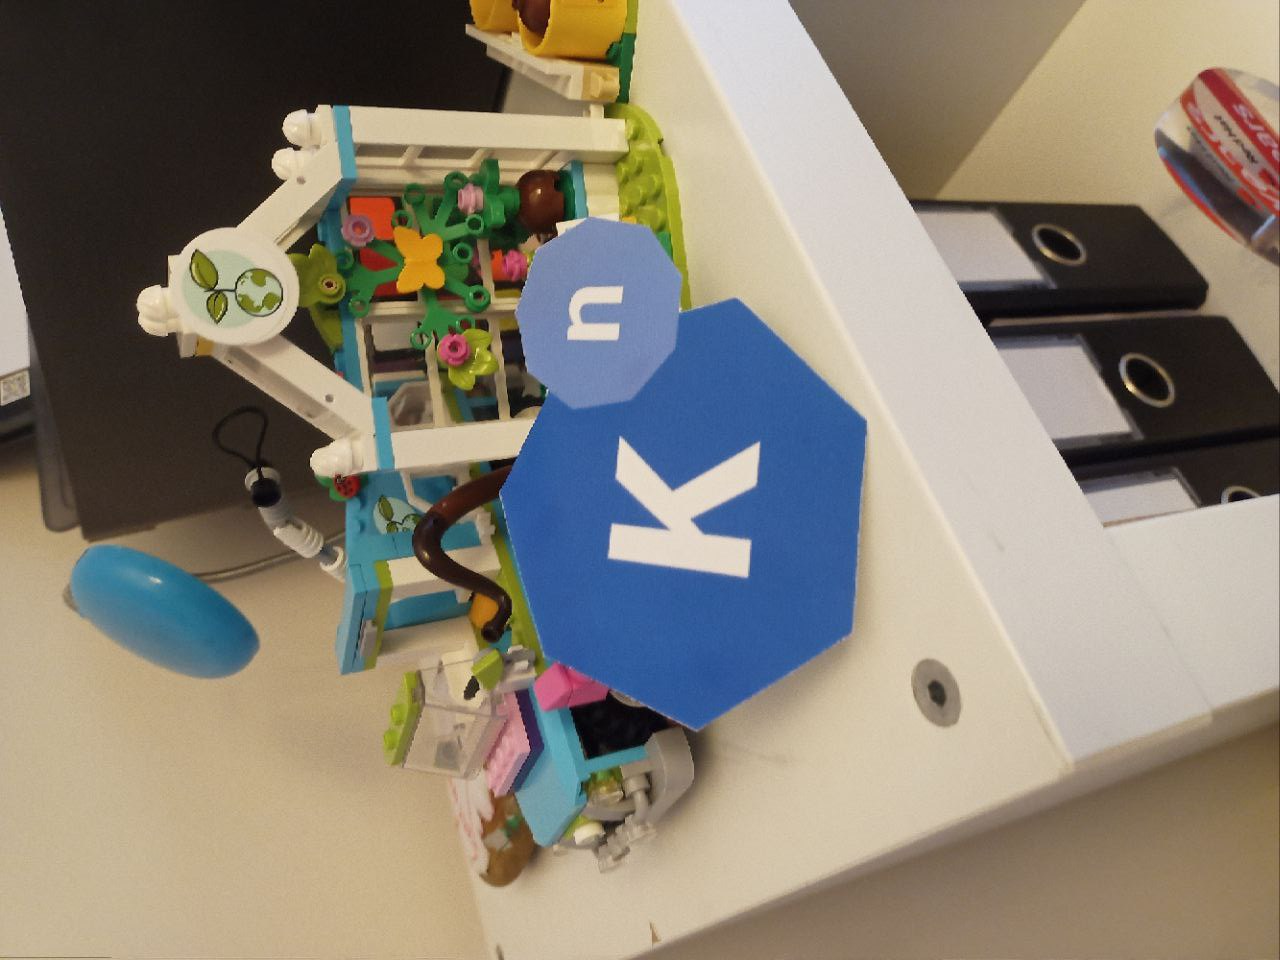knative: (496, 217, 864, 730)
